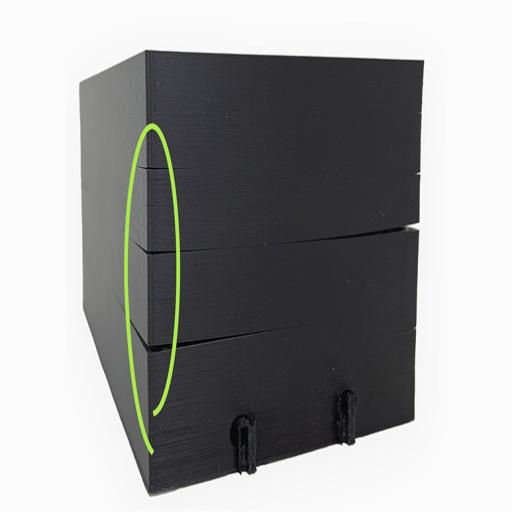cracks: (136, 157, 168, 390), (323, 202, 429, 260)
